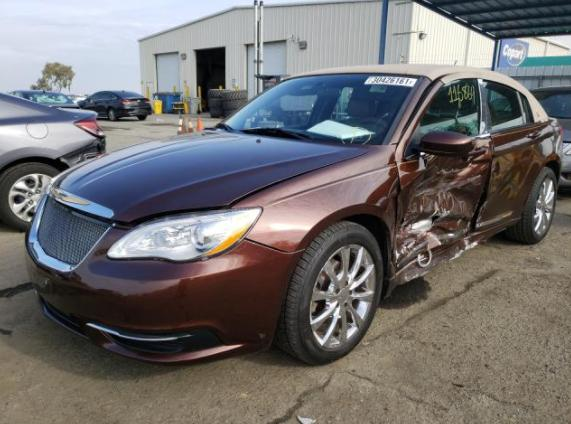Back-door: (476, 75, 544, 232)
Back-wheel: (506, 166, 558, 244)
Back-window: (485, 81, 533, 131)
Fender: (233, 144, 401, 253)
Front-bumper: (25, 192, 305, 364)
Front-door: (392, 74, 494, 271)
Front-wheel: (272, 221, 384, 366)
Front-window: (421, 79, 482, 137)
Grille: (37, 199, 109, 263)
Headlight: (107, 206, 262, 264)
Hood: (49, 128, 371, 222)
Mirror: (414, 130, 472, 156)
Quarter-panel: (536, 115, 563, 175)
Rocker-panel: (385, 218, 521, 297)
Roof: (297, 63, 525, 93)
Windshield: (215, 73, 426, 145)
